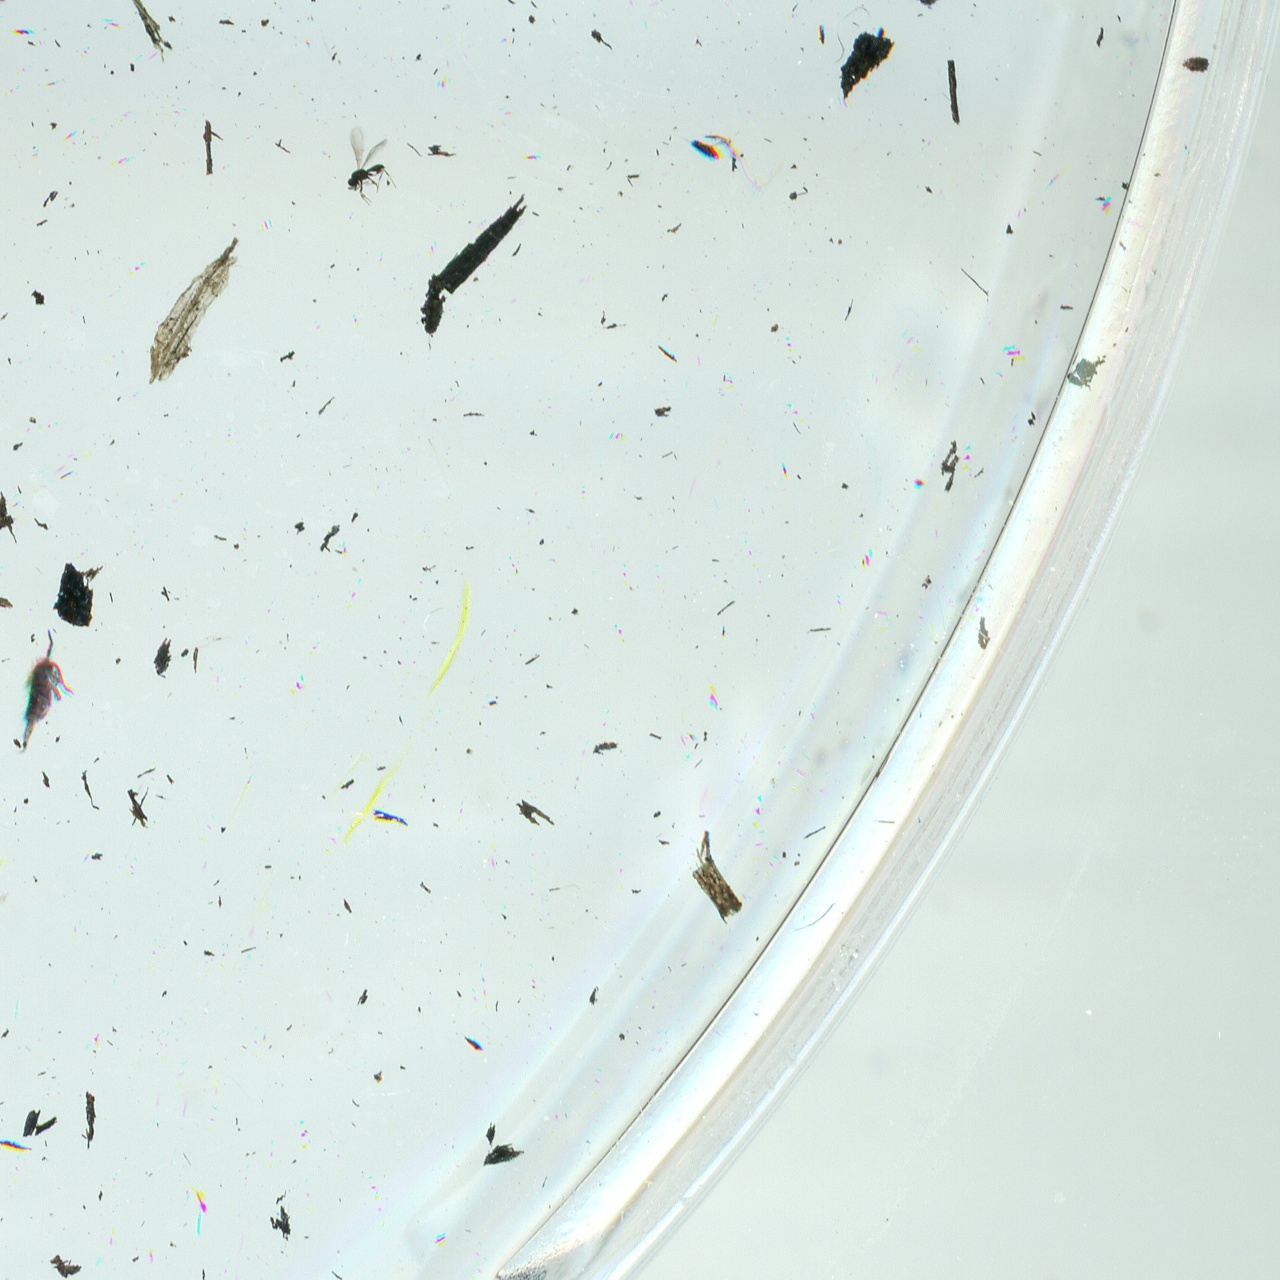arthropod: (8, 618, 88, 763), (346, 123, 399, 209)
